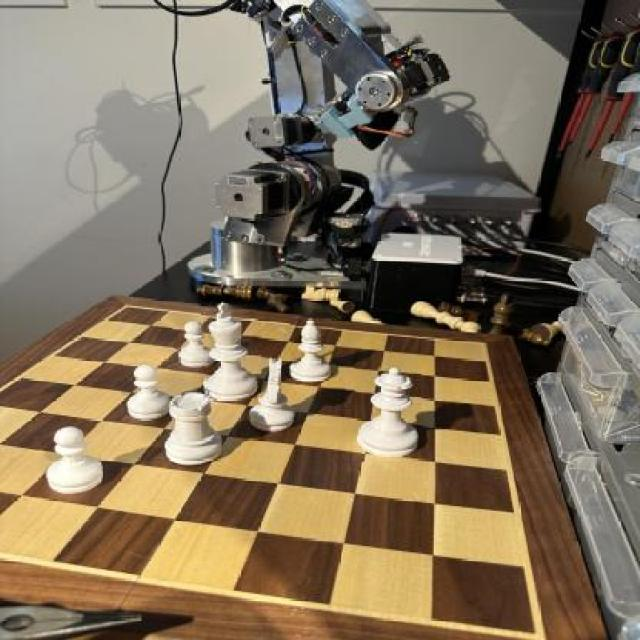black-rook: (291, 315, 336, 384)
white-bishop: (202, 300, 263, 401)
white-king: (248, 358, 303, 434)
white-knight: (38, 426, 107, 504), (123, 360, 172, 420), (174, 320, 214, 367)
white-pawn: (355, 366, 424, 462)
white-queen: (158, 396, 228, 464)
